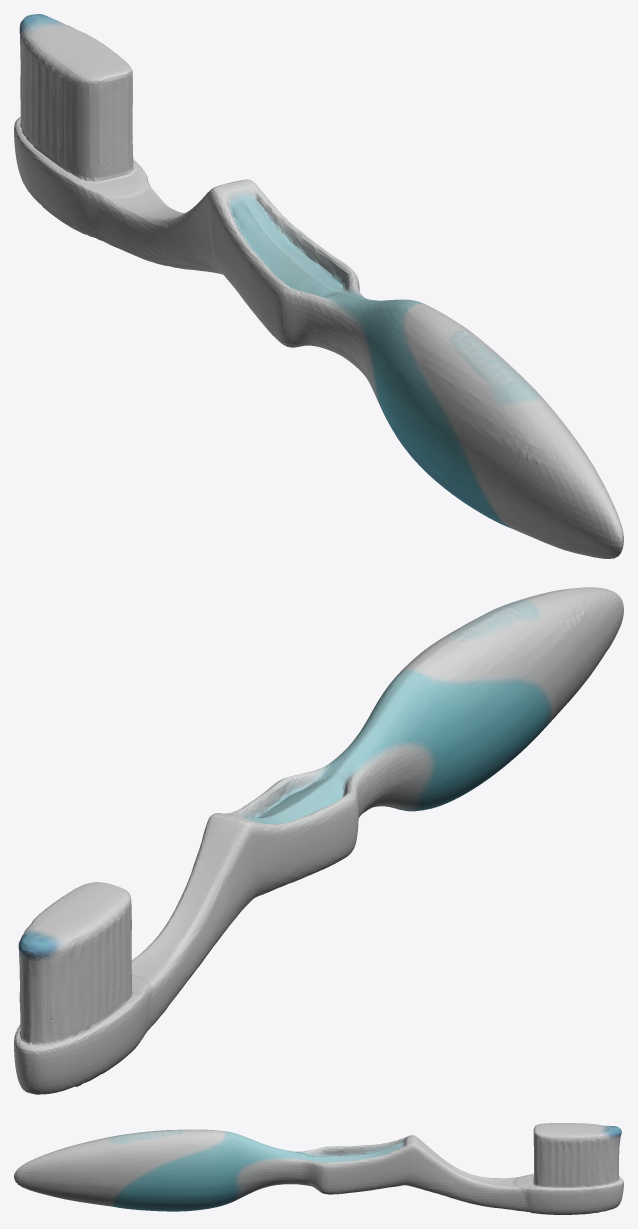
Rendered from obj2_scaled_obb.glb.
The picture shows the model from 3 angles, top to bottom: view 1: azimuth 30°, elevation 25°; view 2: azimuth 150°, elevation 25°; view 3: azimuth 270°, elevation 25°; orthographic projection. The views are drawn at different scales.
Visible parts, largest first — view 1: world; view 2: world; view 3: world.
Part boxes in pixels (x1,y1,x2,y2): world: [14, 14, 623, 558]; world: [14, 587, 623, 1094]; world: [14, 1123, 623, 1214].
Size of the model in its own units: 0.0147 by 0.0274 by 0.1828.
